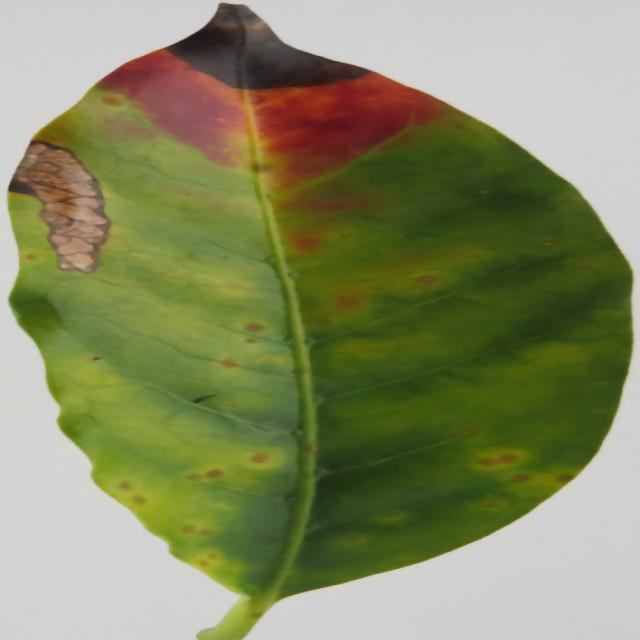DeficienciaNutricional-Fosforo: (9, 4, 631, 639)
